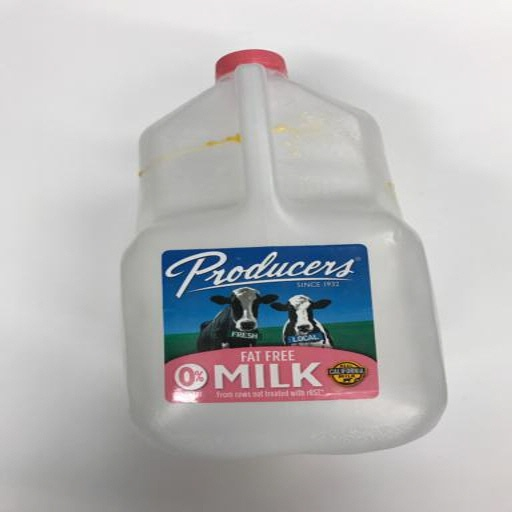Plastic_1: (123, 50, 448, 455)
